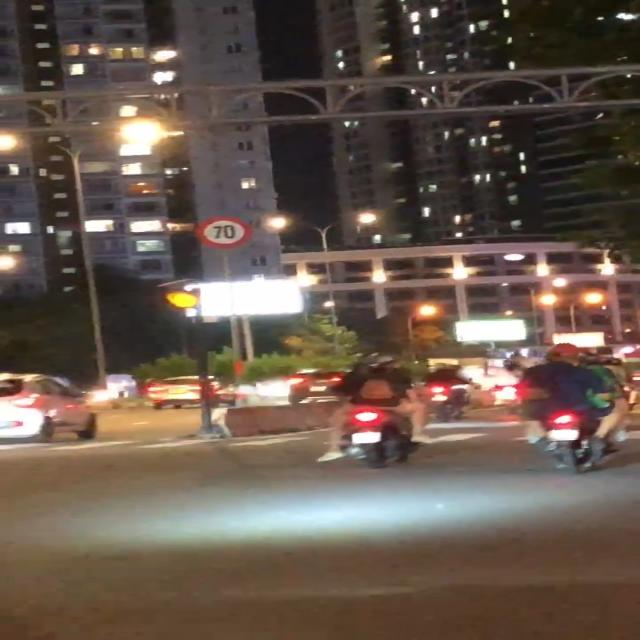Bien bao toc do toi da cho phep: (190, 214, 256, 252)
